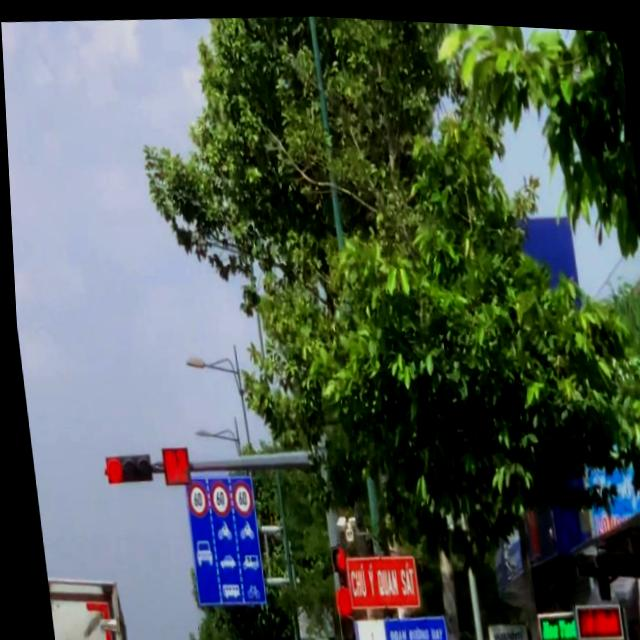Toc do toi da cho phep: (180, 479, 204, 515), (226, 477, 249, 514), (203, 478, 226, 514)
